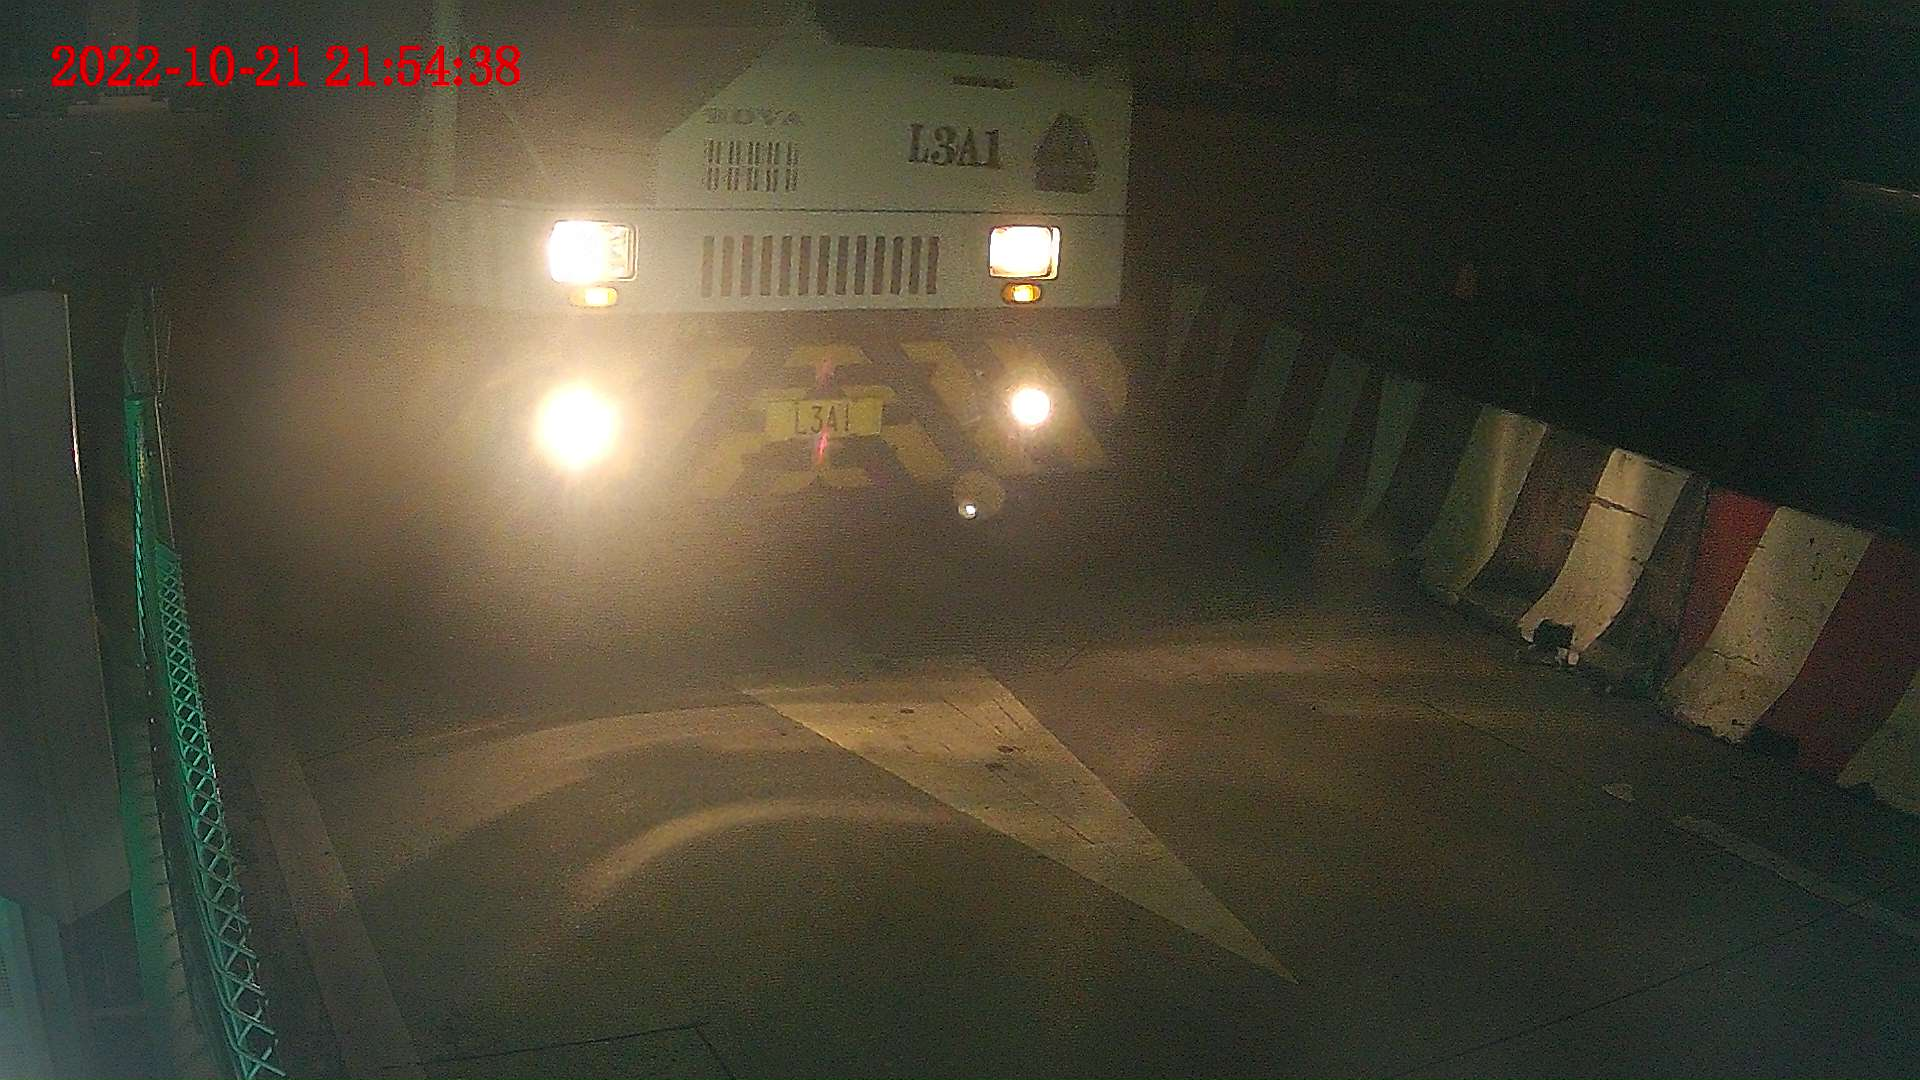head: (278, 1, 1135, 578)
plate: (772, 406, 874, 436)
